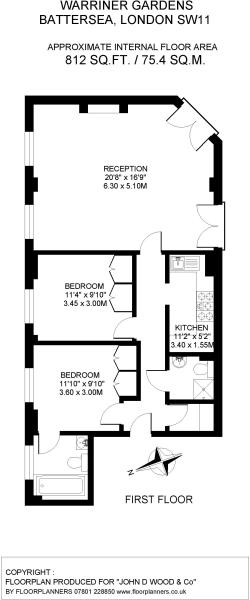GrossArea: (44, 37, 223, 68)
